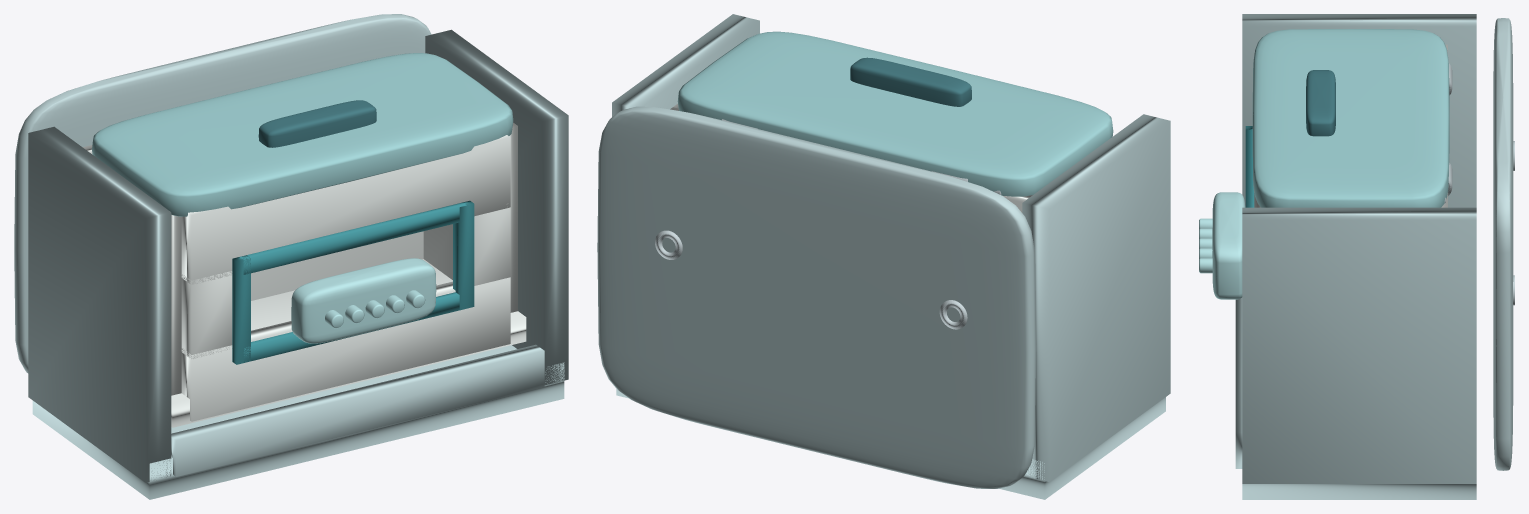
The model's file is glove_dispenser.glb.
3 views of the same model, side by side, from view 1: azimuth 30°, elevation 25°; view 2: azimuth 150°, elevation 25°; view 3: azimuth 270°, elevation 25° (orthographic). The views are drawn at different scales.
Visible parts, largest first — view 1: Holder_Left, Refill_Lid_Panel, Holder_Back, Box_Front_Top, Box_Front_Bottom, Holder_Front_Lip, Holder_Right, Holder_Shelf, Glove_Fold, Box_Back, Outlet_Rim_Top, Box_Front_Left (+8 smaller); view 2: Holder_Back, Holder_Left, Refill_Lid_Panel, Holder_Right, Refill_Handle, Holder_Shelf; view 3: Holder_Right, Refill_Lid_Panel, Holder_Left, Holder_Back, Holder_Shelf, Glove_Fold, Refill_Handle, Holder_Front_Lip, Outlet_Rim_Top.
Part boxes in pixels (x1=…): Holder_Left: x1=28, y1=126, x2=171, y2=482; Refill_Lid_Panel: x1=92, y1=53, x2=513, y2=216; Holder_Back: x1=14, y1=14, x2=431, y2=373; Box_Front_Top: x1=181, y1=135, x2=510, y2=284; Box_Front_Bottom: x1=181, y1=277, x2=510, y2=421; Holder_Front_Lip: x1=171, y1=344, x2=544, y2=476; Holder_Right: x1=425, y1=29, x2=568, y2=385; Holder_Shelf: x1=32, y1=345, x2=564, y2=499; Glove_Fold: x1=291, y1=258, x2=436, y2=343; Box_Back: x1=83, y1=145, x2=423, y2=300; Outlet_Rim_Top: x1=240, y1=202, x2=466, y2=274; Box_Front_Left: x1=181, y1=271, x2=232, y2=358; Holder_Back: x1=597, y1=106, x2=1036, y2=488; Holder_Left: x1=1022, y1=114, x2=1170, y2=482; Refill_Lid_Panel: x1=677, y1=31, x2=1113, y2=196; Holder_Right: x1=612, y1=14, x2=759, y2=116; Refill_Handle: x1=850, y1=57, x2=971, y2=106; Holder_Shelf: x1=616, y1=389, x2=1165, y2=499; Holder_Right: x1=1242, y1=207, x2=1476, y2=483; Refill_Lid_Panel: x1=1252, y1=29, x2=1449, y2=207; Holder_Left: x1=1242, y1=14, x2=1476, y2=207; Holder_Back: x1=1493, y1=18, x2=1513, y2=470; Holder_Shelf: x1=1242, y1=484, x2=1476, y2=499; Glove_Fold: x1=1212, y1=192, x2=1245, y2=299; Refill_Handle: x1=1306, y1=70, x2=1335, y2=136; Holder_Front_Lip: x1=1235, y1=297, x2=1242, y2=468; Outlet_Rim_Top: x1=1245, y1=129, x2=1254, y2=207.
Bounding box in the file's own units: 0.292 × 0.202 × 0.189.
